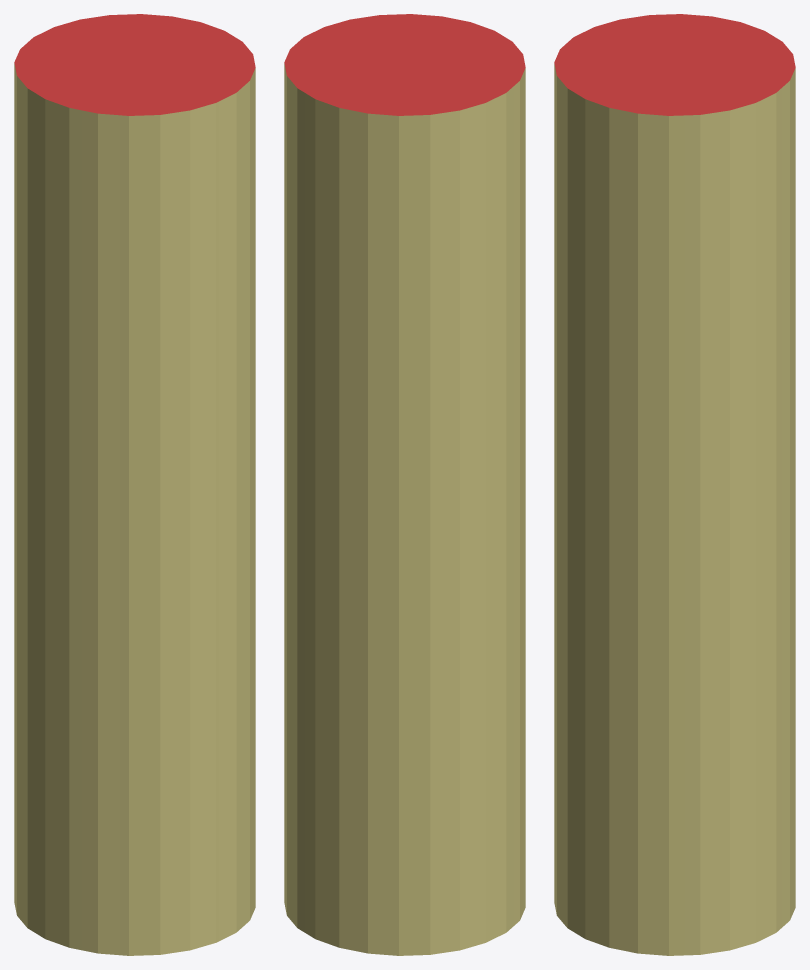
3 views of the same model, side by side, from view 1: azimuth 30°, elevation 25°; view 2: azimuth 150°, elevation 25°; view 3: azimuth 270°, elevation 25° (orthographic).
Size of the model in its own units: 2.21 by 2.21 by 8.5.
